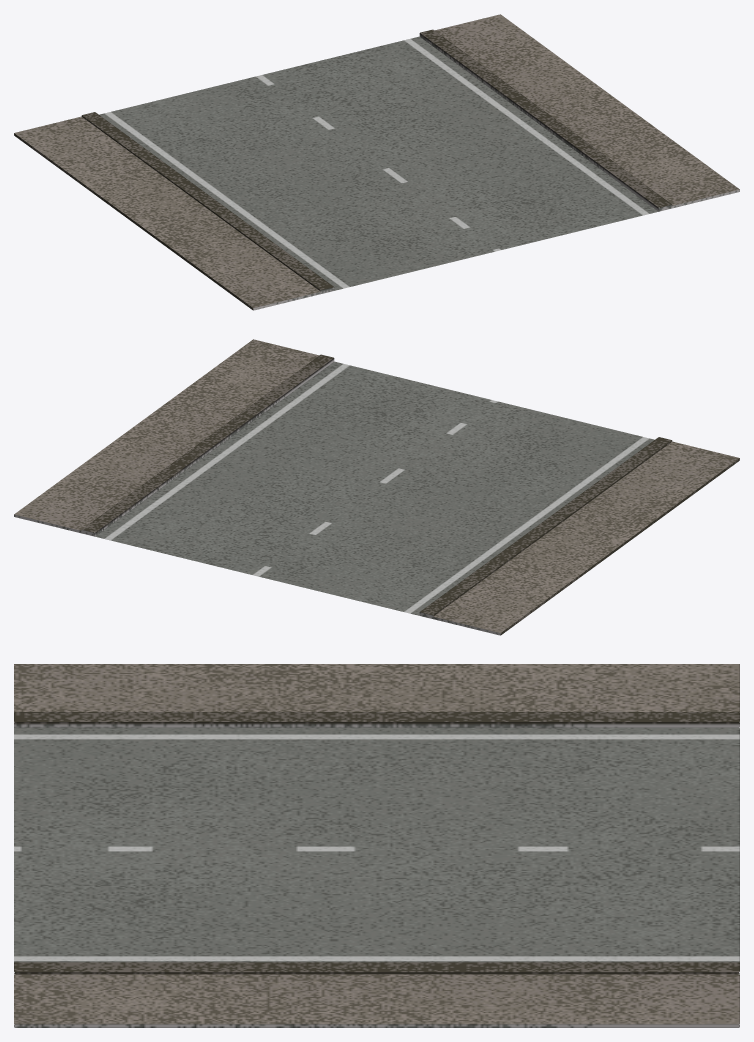
Rendered from road.fbx.
3 renders of one model, top to bottom at view 1: azimuth 30°, elevation 25°; view 2: azimuth 150°, elevation 25°; view 3: azimuth 270°, elevation 25°, orthographic. The views are drawn at different scales.
Visible parts, largest first — view 1: plane; view 2: plane; view 3: plane.
Part boxes in pixels (x1,y1,x2,y2): plane: [14, 14, 739, 310]; plane: [14, 339, 739, 635]; plane: [14, 664, 739, 1027].
Bounding box in the file's own units: 1949 × 14.38 × 1660.
1 material, 1 textured.
